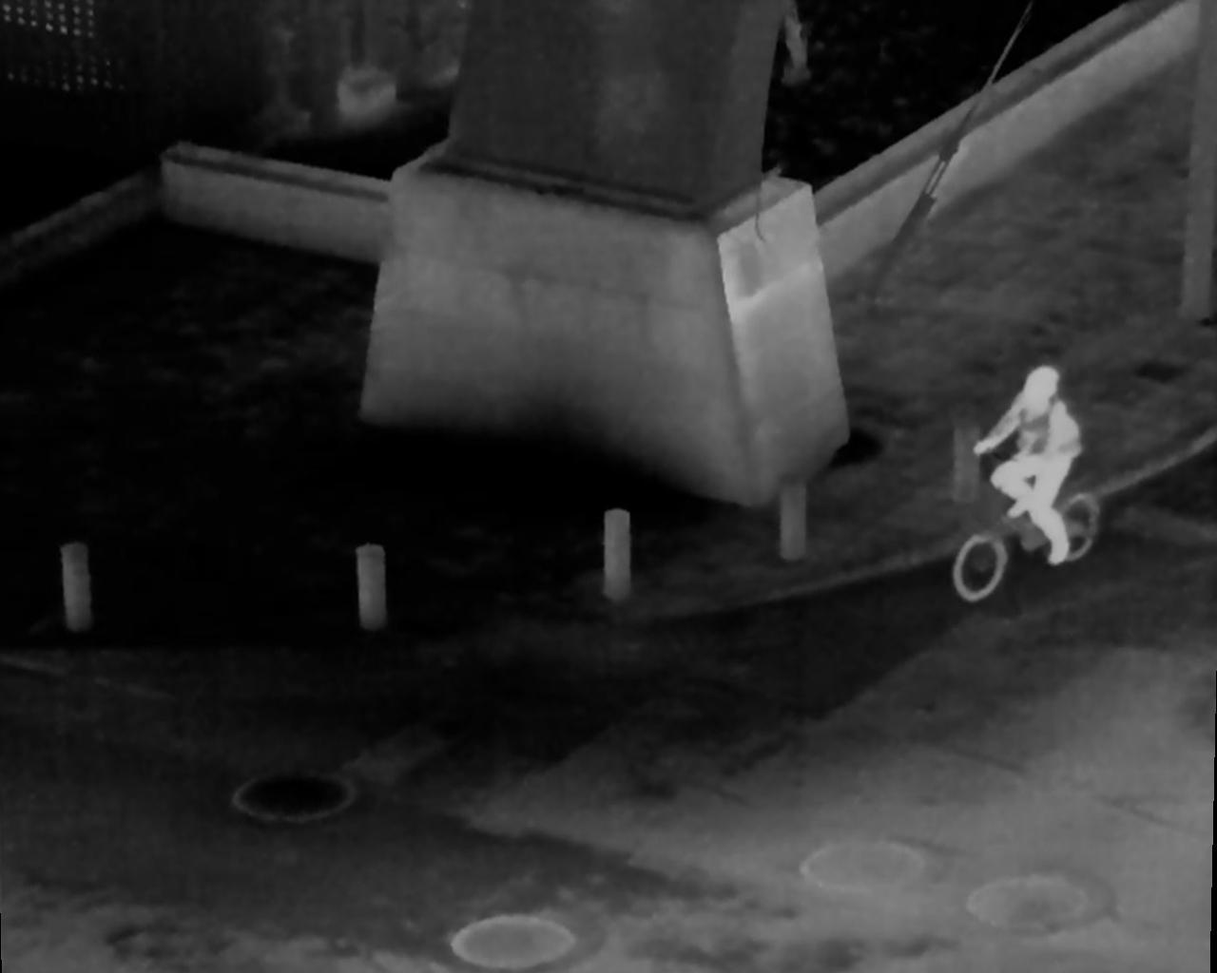person: (976, 361, 1084, 571)
